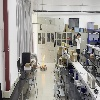fire: (42, 53, 45, 68)
